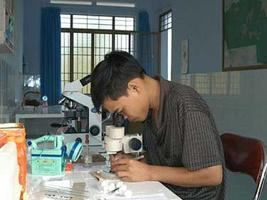person: (92, 51, 227, 199)
